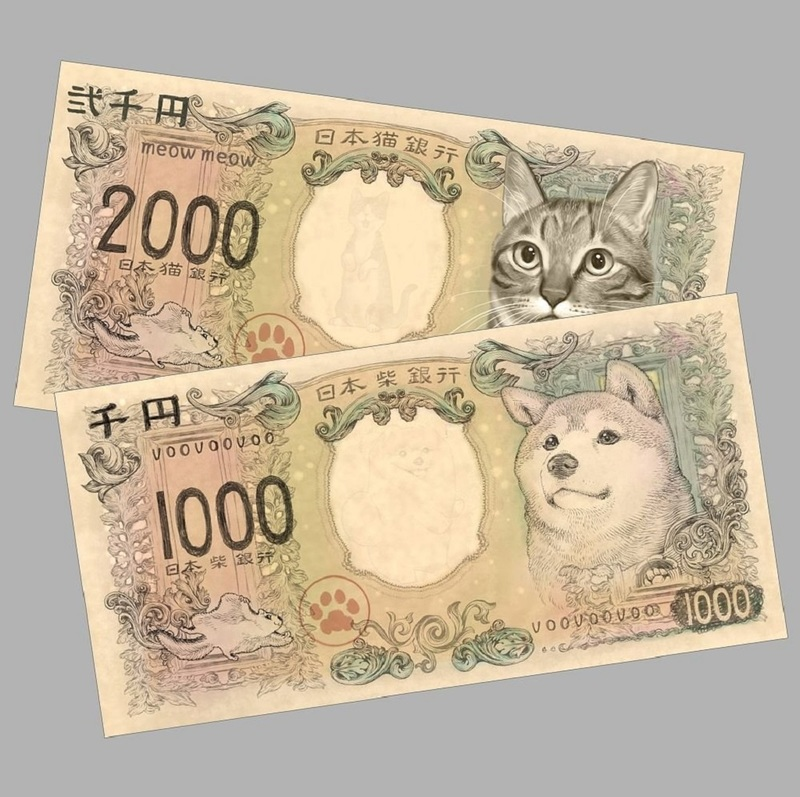cash: (54, 293, 787, 739), (11, 56, 744, 409)
